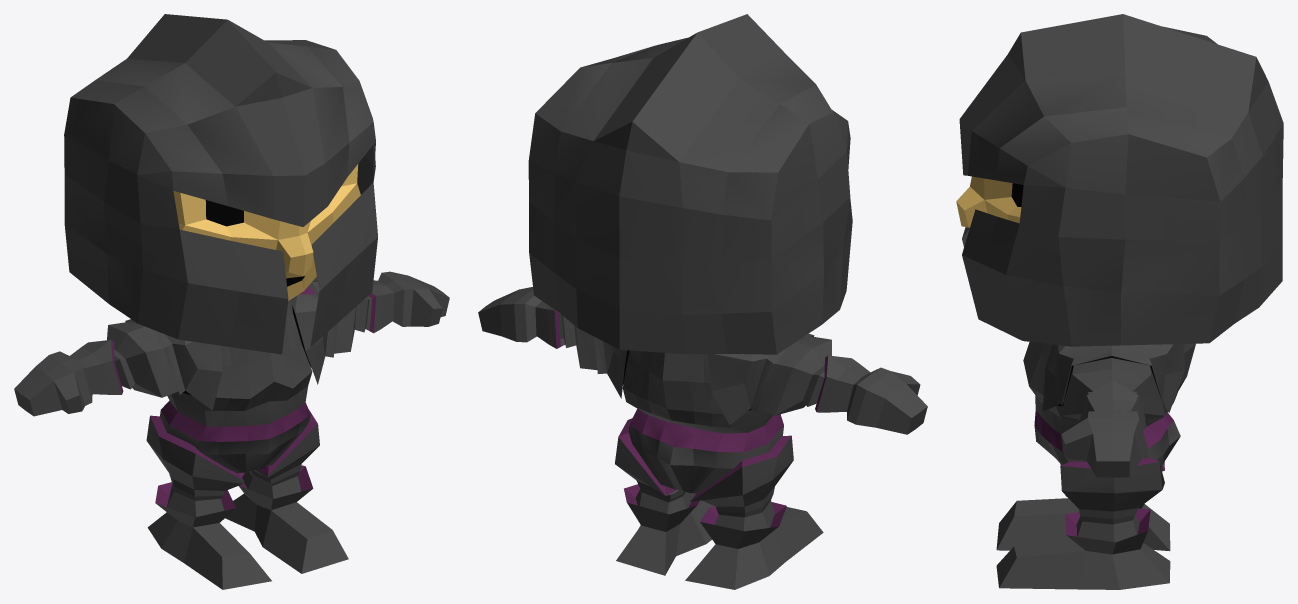
The model's file is enemy_knight.fbx.
3 views of the same model, side by side, from view 1: azimuth 30°, elevation 25°; view 2: azimuth 150°, elevation 25°; view 3: azimuth 270°, elevation 25° (orthographic). The views are drawn at different scales.
Visible parts, largest first — view 1: dark_knight.001; view 2: dark_knight.001; view 3: dark_knight.001.
Part boxes in pixels (bbox=[...]): dark_knight.001: bbox=[14, 14, 449, 589]; dark_knight.001: bbox=[478, 14, 927, 589]; dark_knight.001: bbox=[956, 14, 1283, 589].
Bounding box in the file's own units: 161 × 189 × 103.
